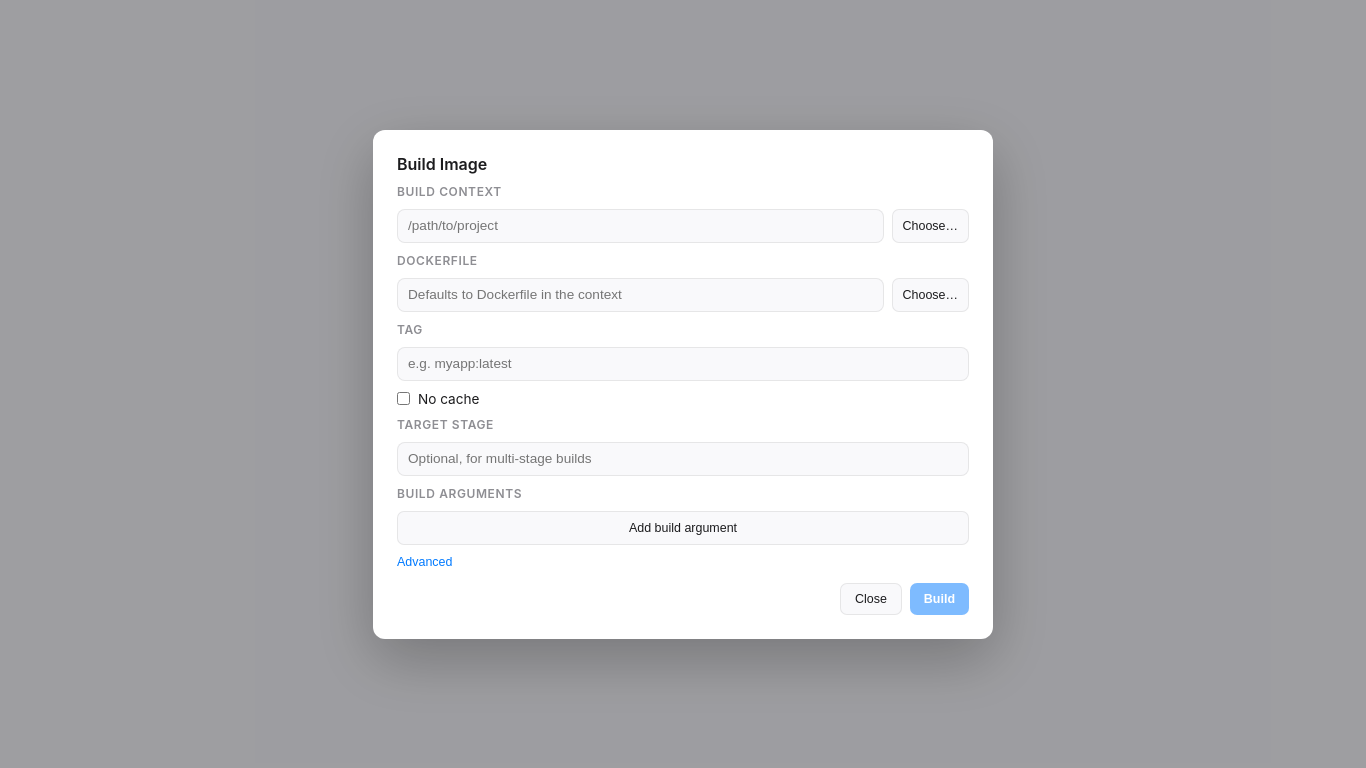
Test: BuildModal › re-enables Build after a start that failed
This screenshot has width=1366, height=768.
Type "/src/app" into the field labelled "Build context" at (640, 226), box [397,208,884,242]
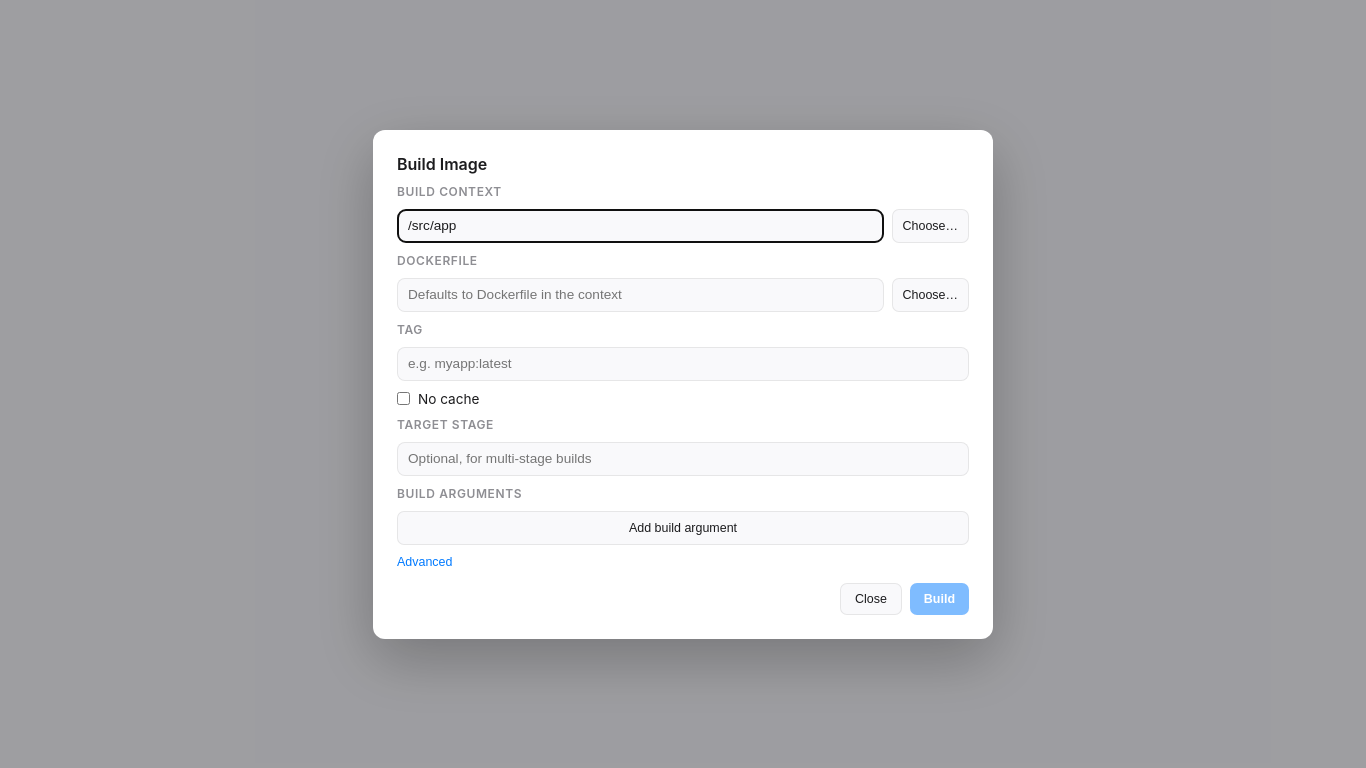
Type "app:latest" into the field labelled "Tag" at (683, 364), box [397,346,969,380]
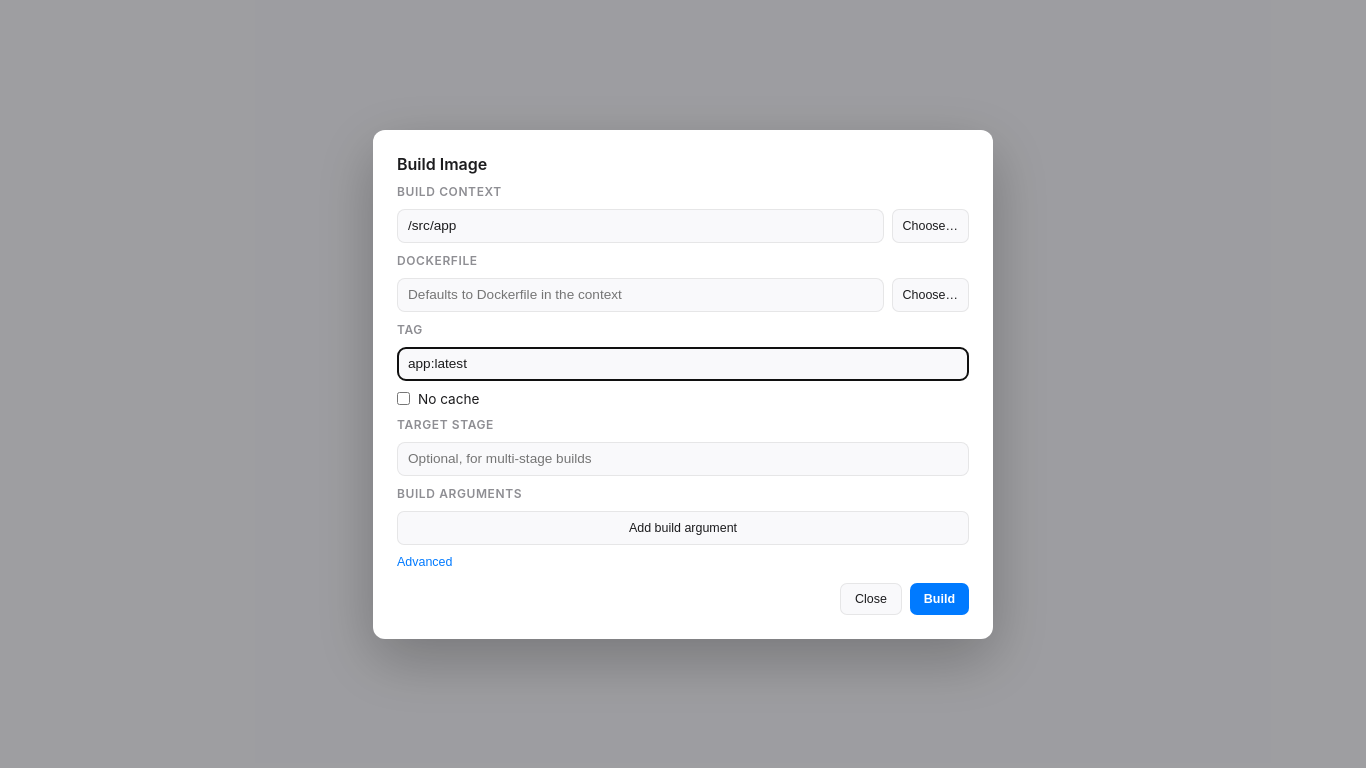
Click the button "Build" at (939, 598), box [910,582,969,614]
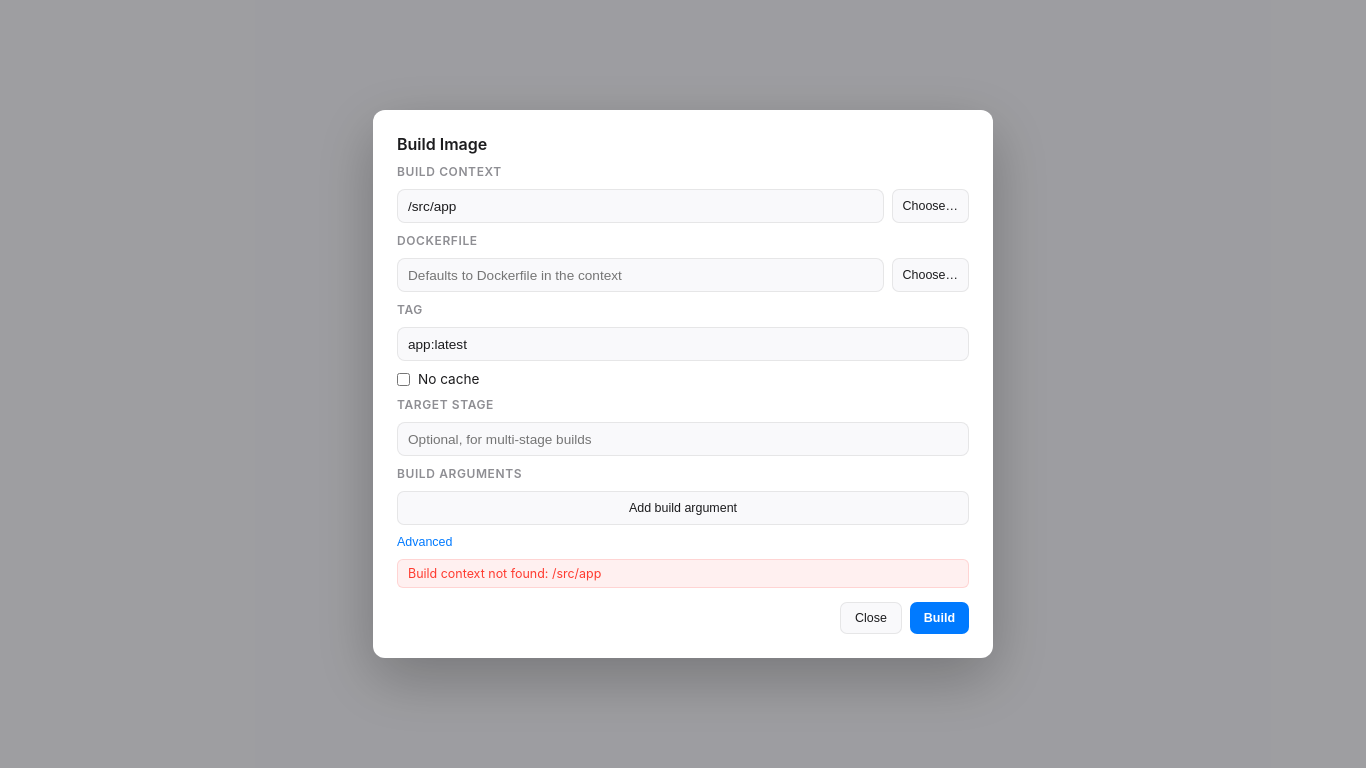
Check: the button "Build" is enabled, box [910,602,969,634]
Check: the text "Build context not found: /src/app" is shown, box [397,559,969,588]
